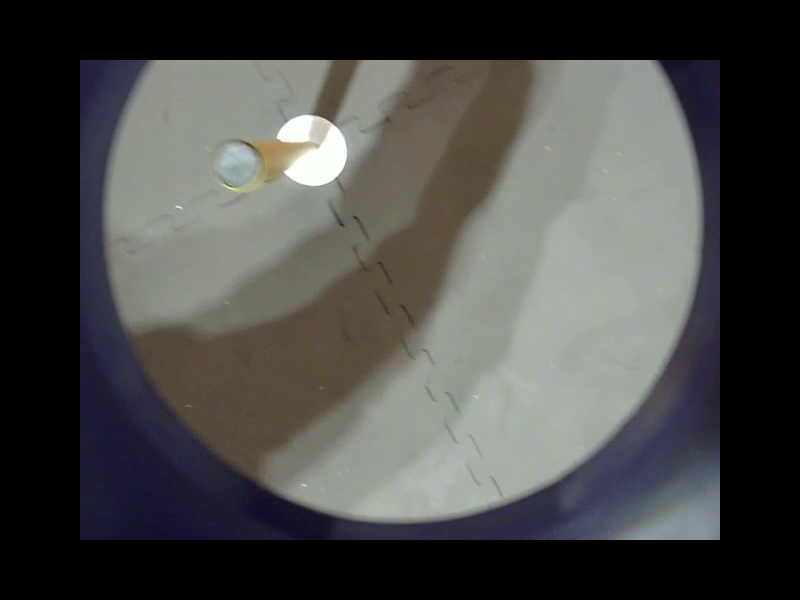tip: (491, 360, 604, 473)
